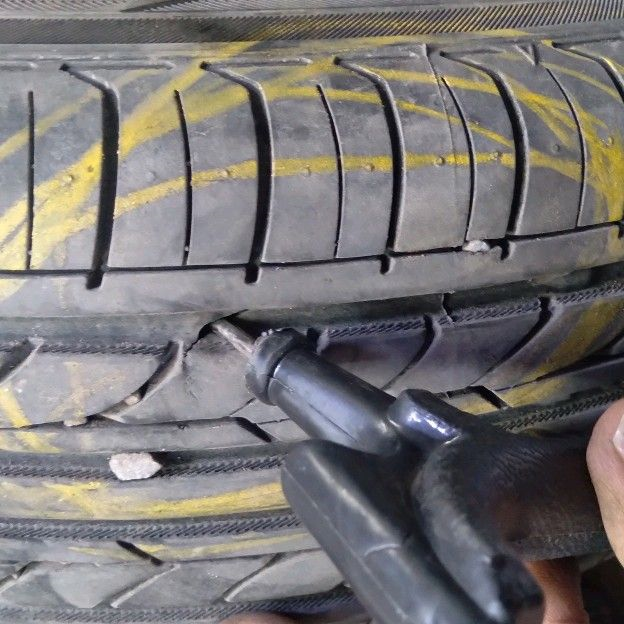tr: (183, 300, 260, 364)
